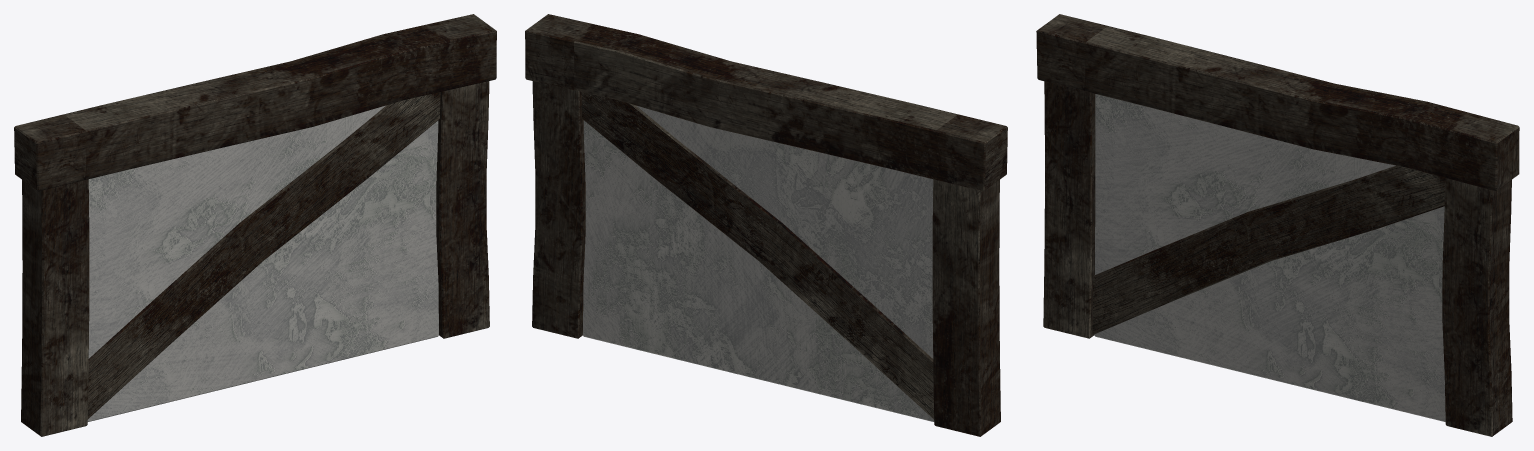
Rendered from TudorWall6.fbx.
3 renders of one model, left to right at view 1: azimuth 30°, elevation 25°; view 2: azimuth 150°, elevation 25°; view 3: azimuth 330°, elevation 25°, orthographic.
Visible parts, largest first — view 1: White Wall Angel 3m; view 2: White Wall Angel 3m; view 3: White Wall Angel 3m.
Boxes of the visible parts, bbox=[...] form: White Wall Angel 3m: bbox=[14, 14, 496, 436]; White Wall Angel 3m: bbox=[525, 14, 1007, 436]; White Wall Angel 3m: bbox=[1036, 14, 1519, 436].
Bounding box in the file's own units: 390 × 242 × 34.19.
